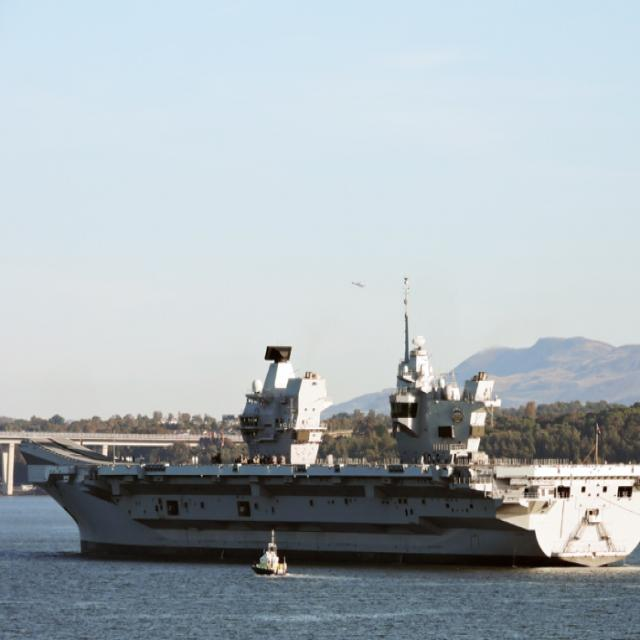Portanaves: (16, 270, 640, 580)
